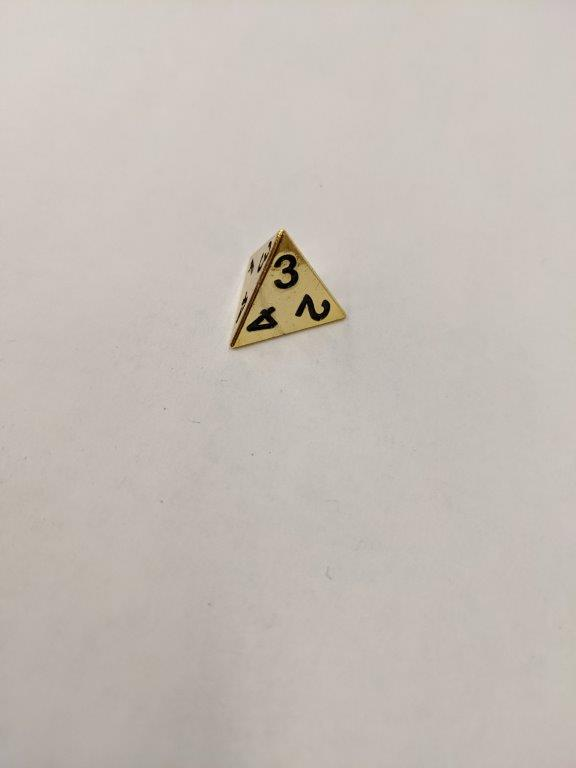d4-3: (224, 226, 349, 352)
